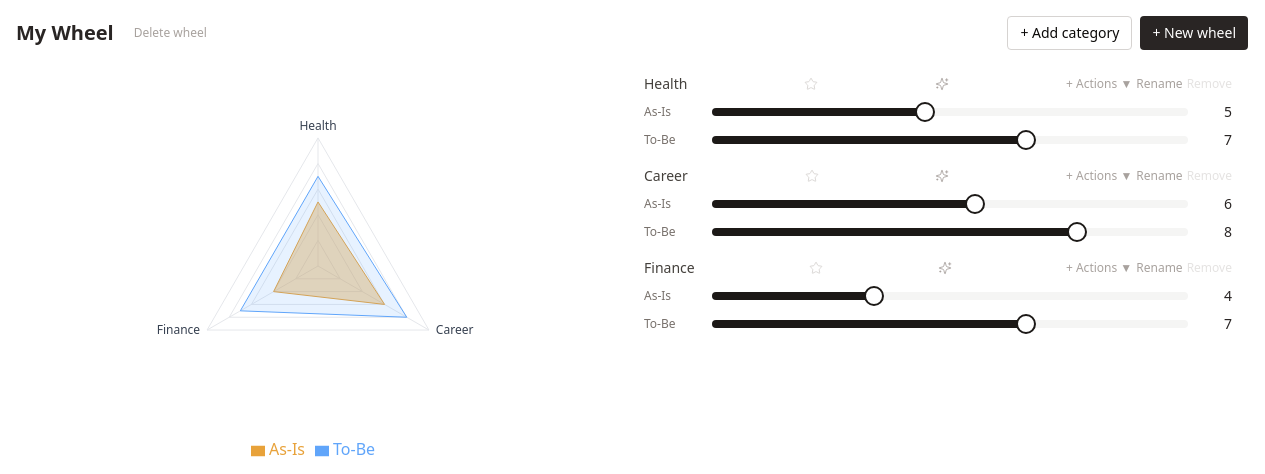
WheelPage › inline wheel rename (POLISH-05) › clicking wheel name shows an input with current name
Click the heading "My Wheel" at (65, 33), box [16, 19, 114, 47]
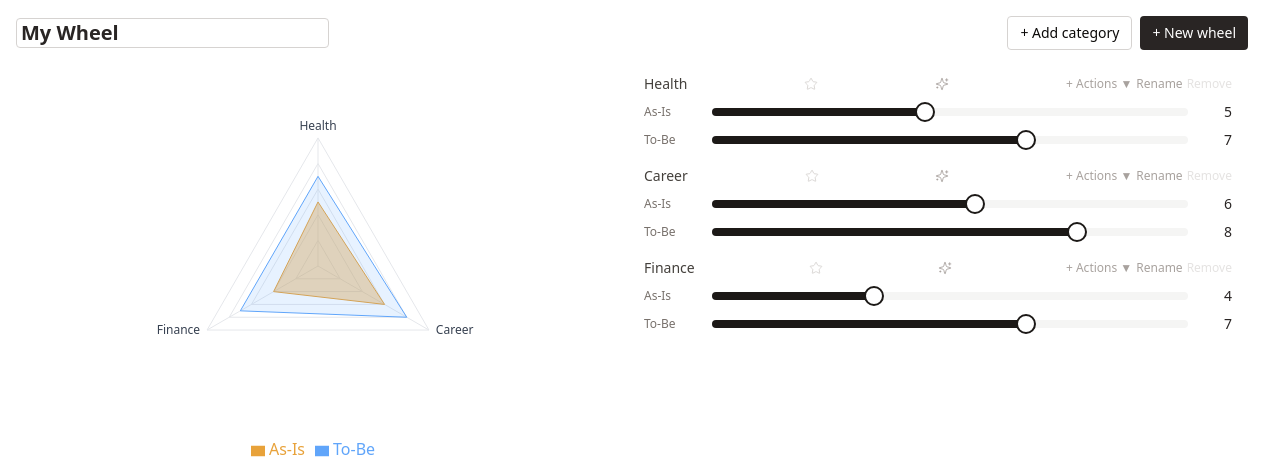
Check: the field named "rename wheel" holds "My Wheel", box [16, 18, 329, 48]
